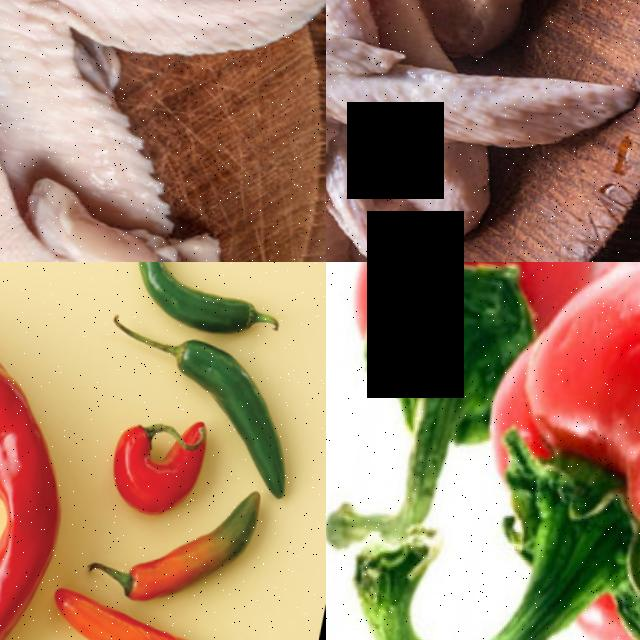chicken wing: (0, 0, 326, 258), (326, 0, 640, 262)
chilli: (484, 262, 640, 640), (0, 267, 104, 640), (158, 323, 326, 429), (120, 507, 265, 609), (102, 390, 219, 511), (52, 572, 248, 640), (121, 262, 287, 329)
